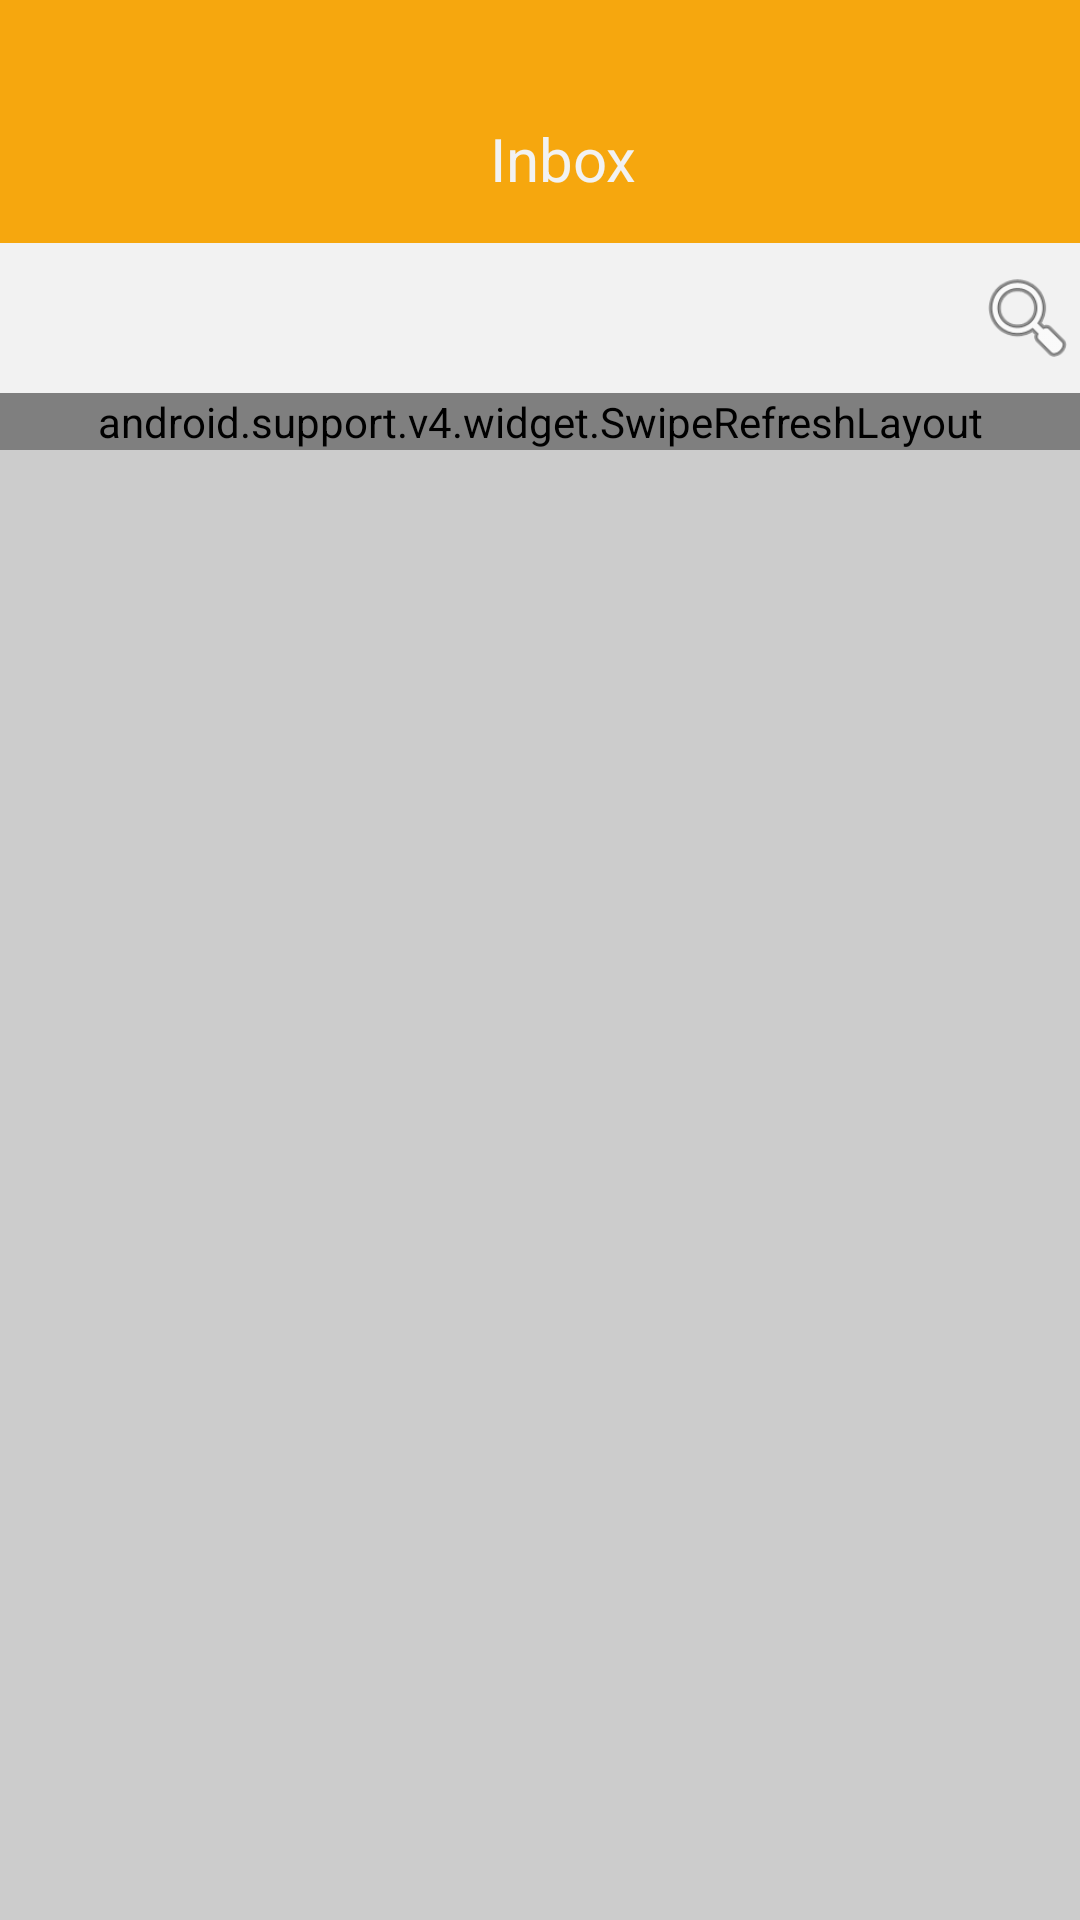

Named icons in this screenshot (1080*1920) and their centers, (x,y):
search: (1027,318)
